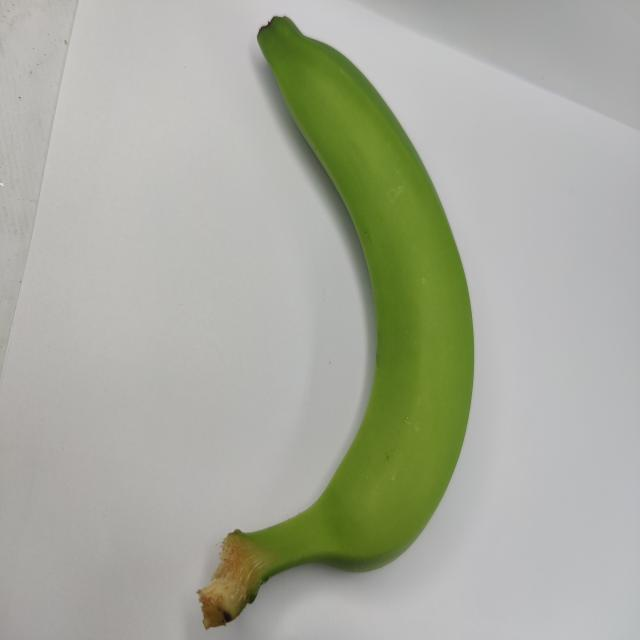raw: (158, 5, 483, 640)
